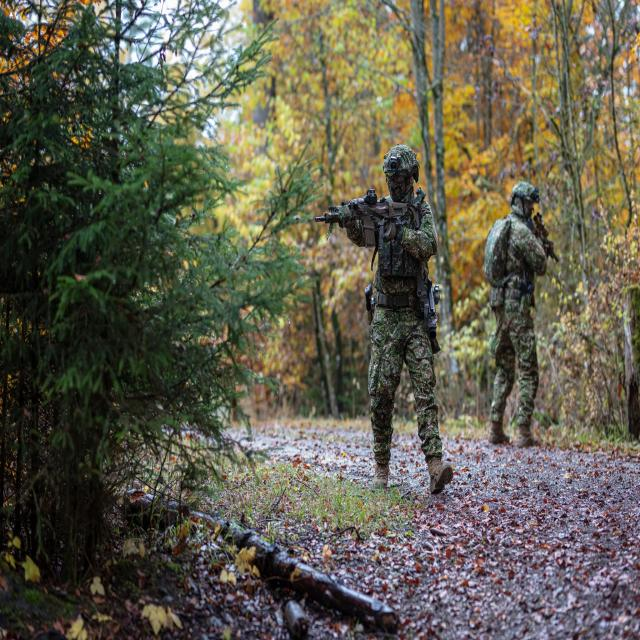Human: (311, 146, 453, 494), (484, 181, 560, 450)
